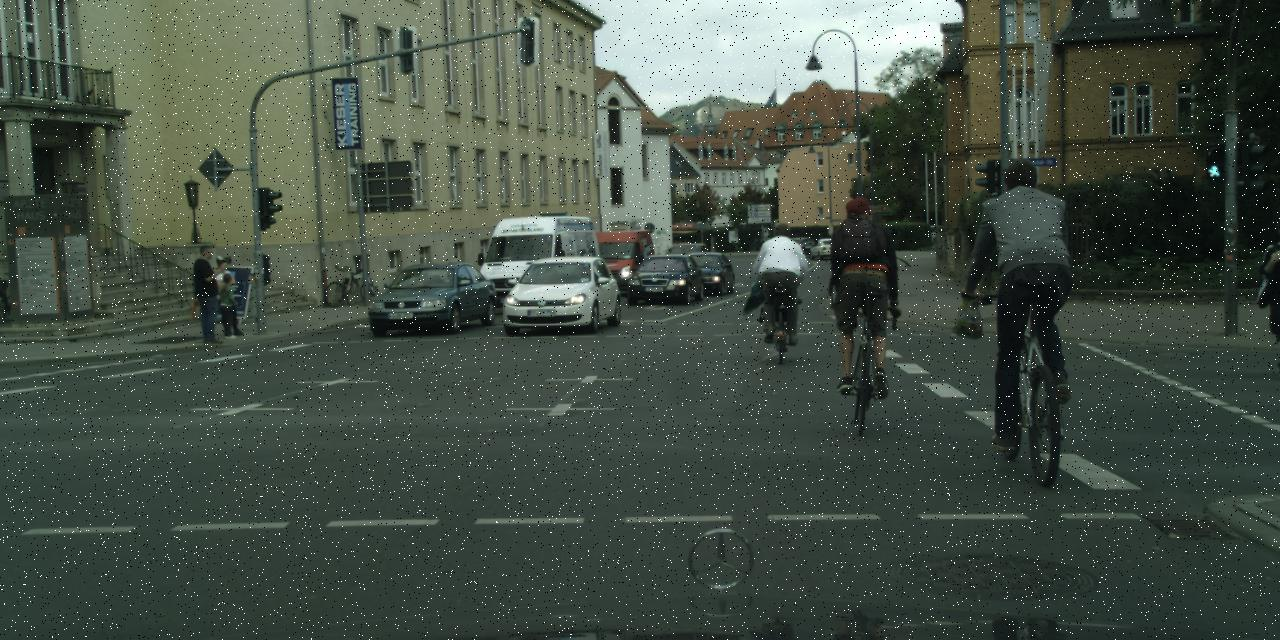ped: (974, 157, 1085, 427), (822, 197, 901, 392), (756, 222, 804, 340), (188, 245, 228, 344), (217, 272, 242, 334)
